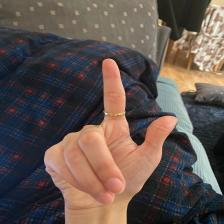five: (40, 56, 176, 202)
